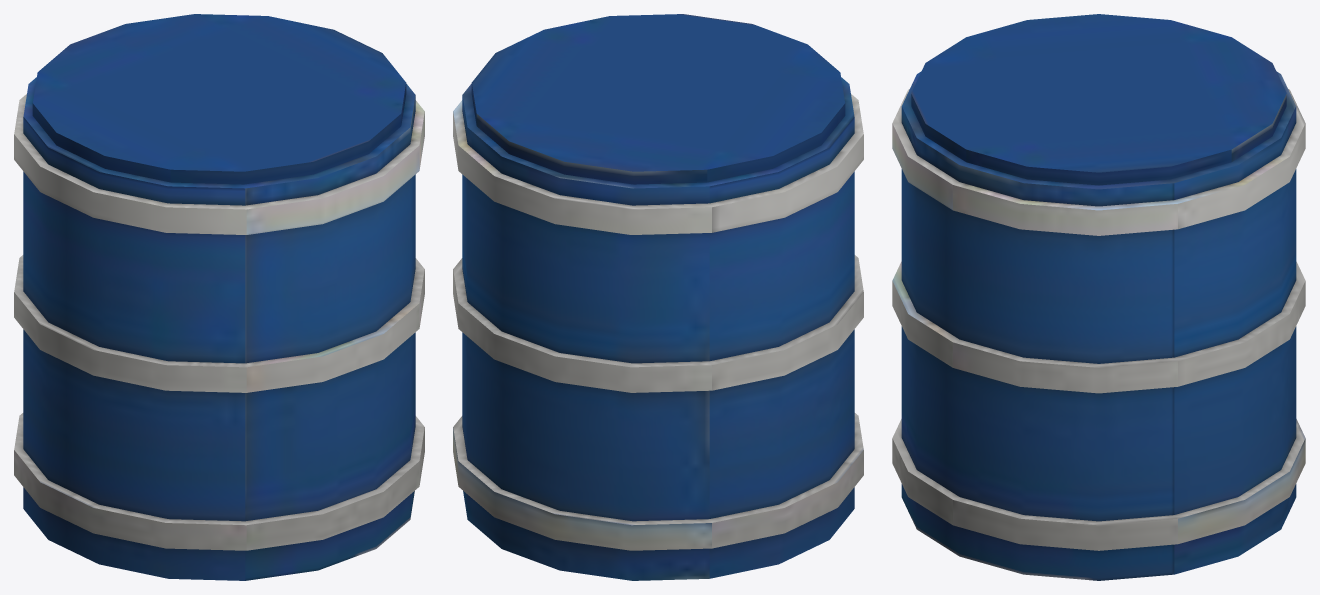
File: barril_rodeo.glb
3 views of the same model, side by side, from view 1: azimuth 30°, elevation 25°; view 2: azimuth 150°, elevation 25°; view 3: azimuth 270°, elevation 25° (orthographic).
Visible parts, largest first — view 1: barril_rodeo; view 2: barril_rodeo; view 3: barril_rodeo.
Boxes of the visible parts, box(x1,y1,x2,y2) form: barril_rodeo: box(14, 14, 424, 580); barril_rodeo: box(453, 14, 863, 580); barril_rodeo: box(892, 14, 1305, 580).
Size of the model in its own units: 0.88 by 0.95 by 0.88.
1 material, 1 textured.
